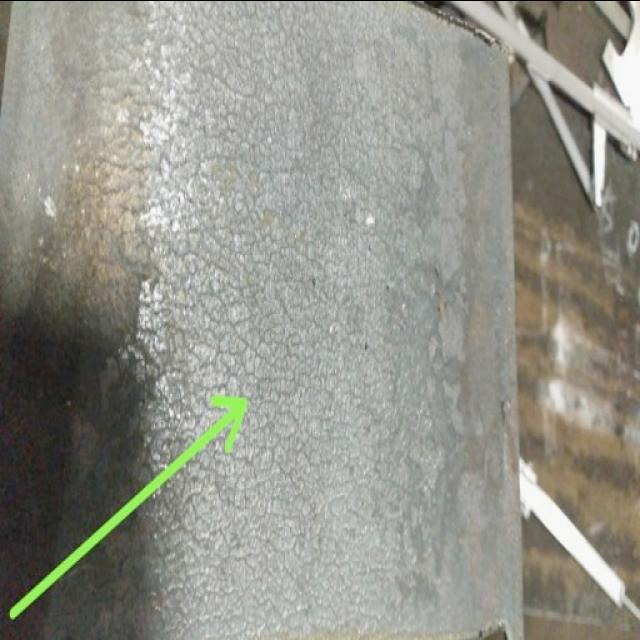defect: (0, 3, 516, 636)
